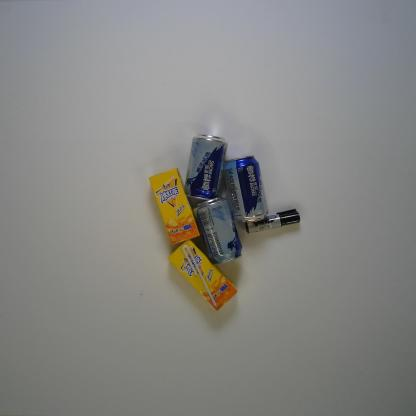Alcohol: (192, 196, 243, 266), (182, 132, 230, 203), (223, 154, 270, 224)
Drink: (168, 239, 237, 314), (148, 167, 201, 248)
Stationery: (244, 208, 302, 235)
